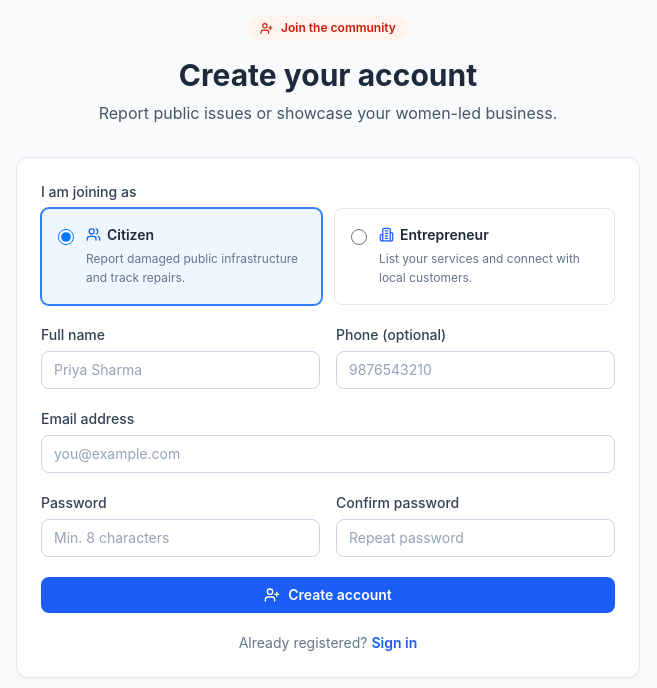
Test case: Register page › rejects short passwords
In the field labelled "Full name": point(180, 370) [41,350,320,388], type "Test User"
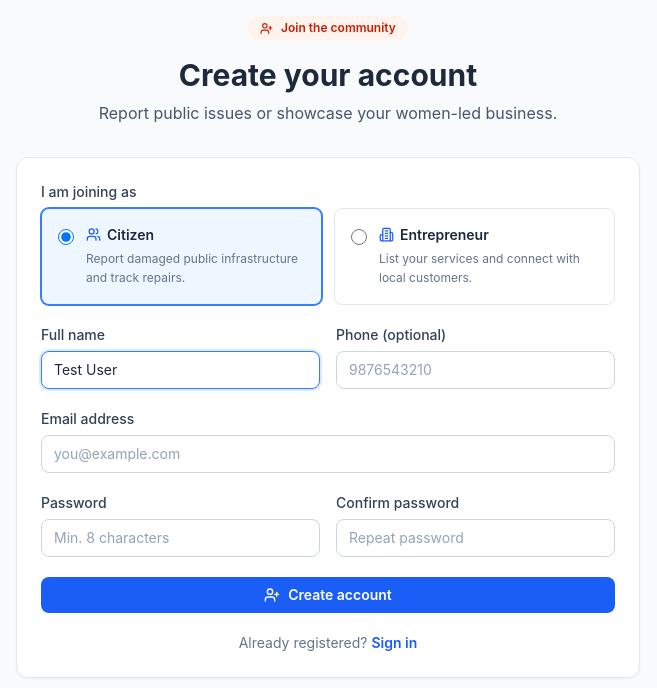
In the field labelled "Email address": point(328, 454) [41,434,615,472], type "test@example.com"
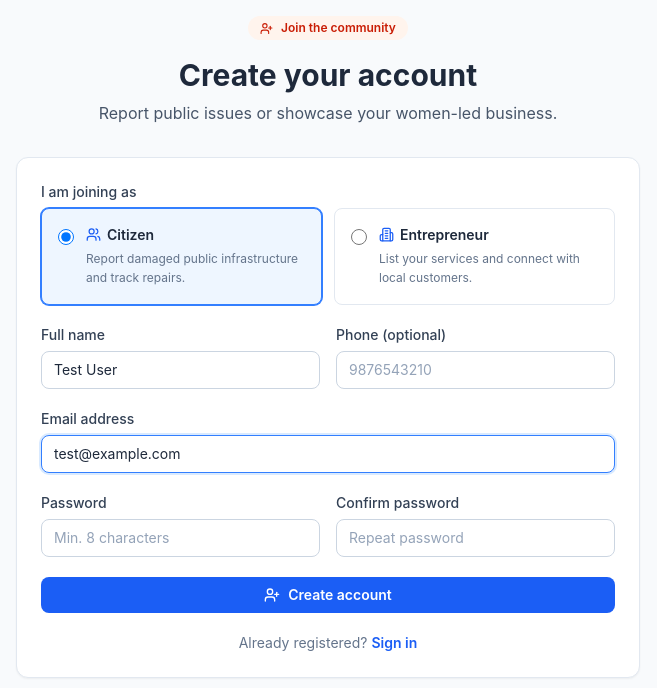
In the password field labelled "Password": point(180, 538) [41,518,320,556], type "abc"
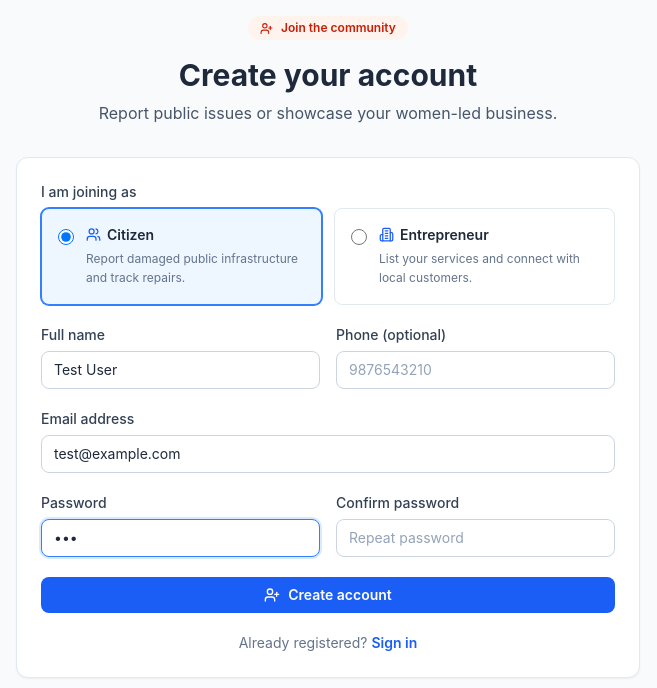
In the password field labelled "Confirm password": point(476, 538) [336,518,615,556], type "abc"
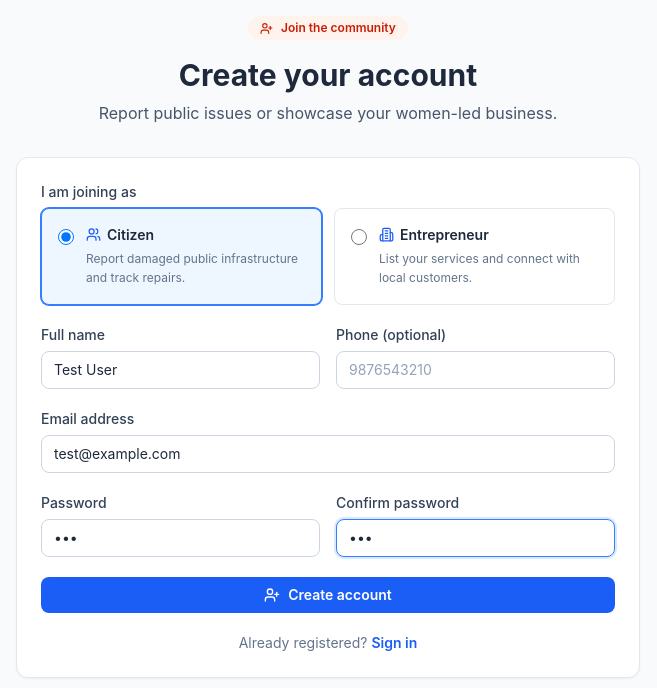
Click the button "Create account": point(328, 594) [41,576,615,612]
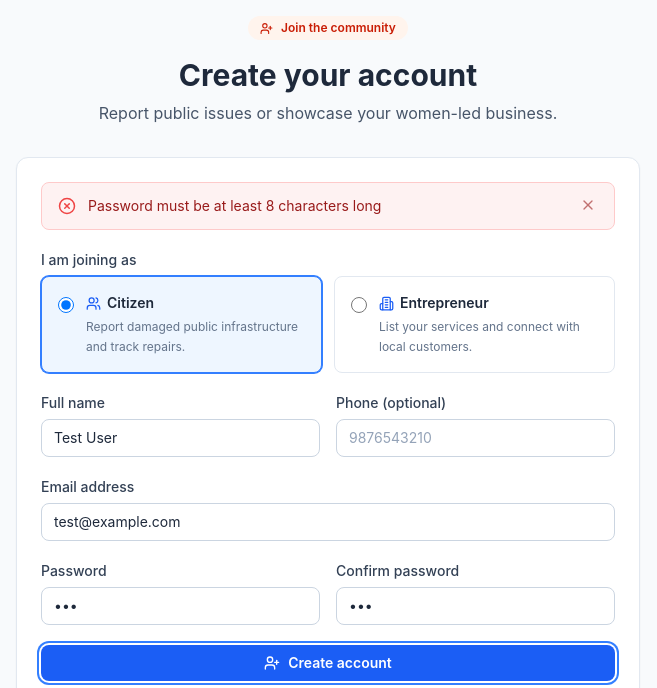
Expected: the text "Password must be at least 8 characters long" is shown, [88,196,381,214]
